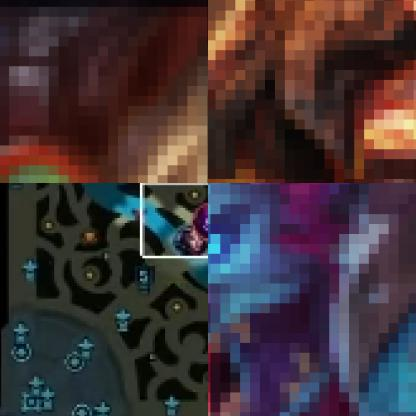Brand: (208, 0, 415, 182)
Leblanc: (172, 225, 207, 261)
Malzahar: (192, 202, 207, 240)
Trundle: (208, 183, 415, 415)
Ziggs: (0, 0, 207, 182)
